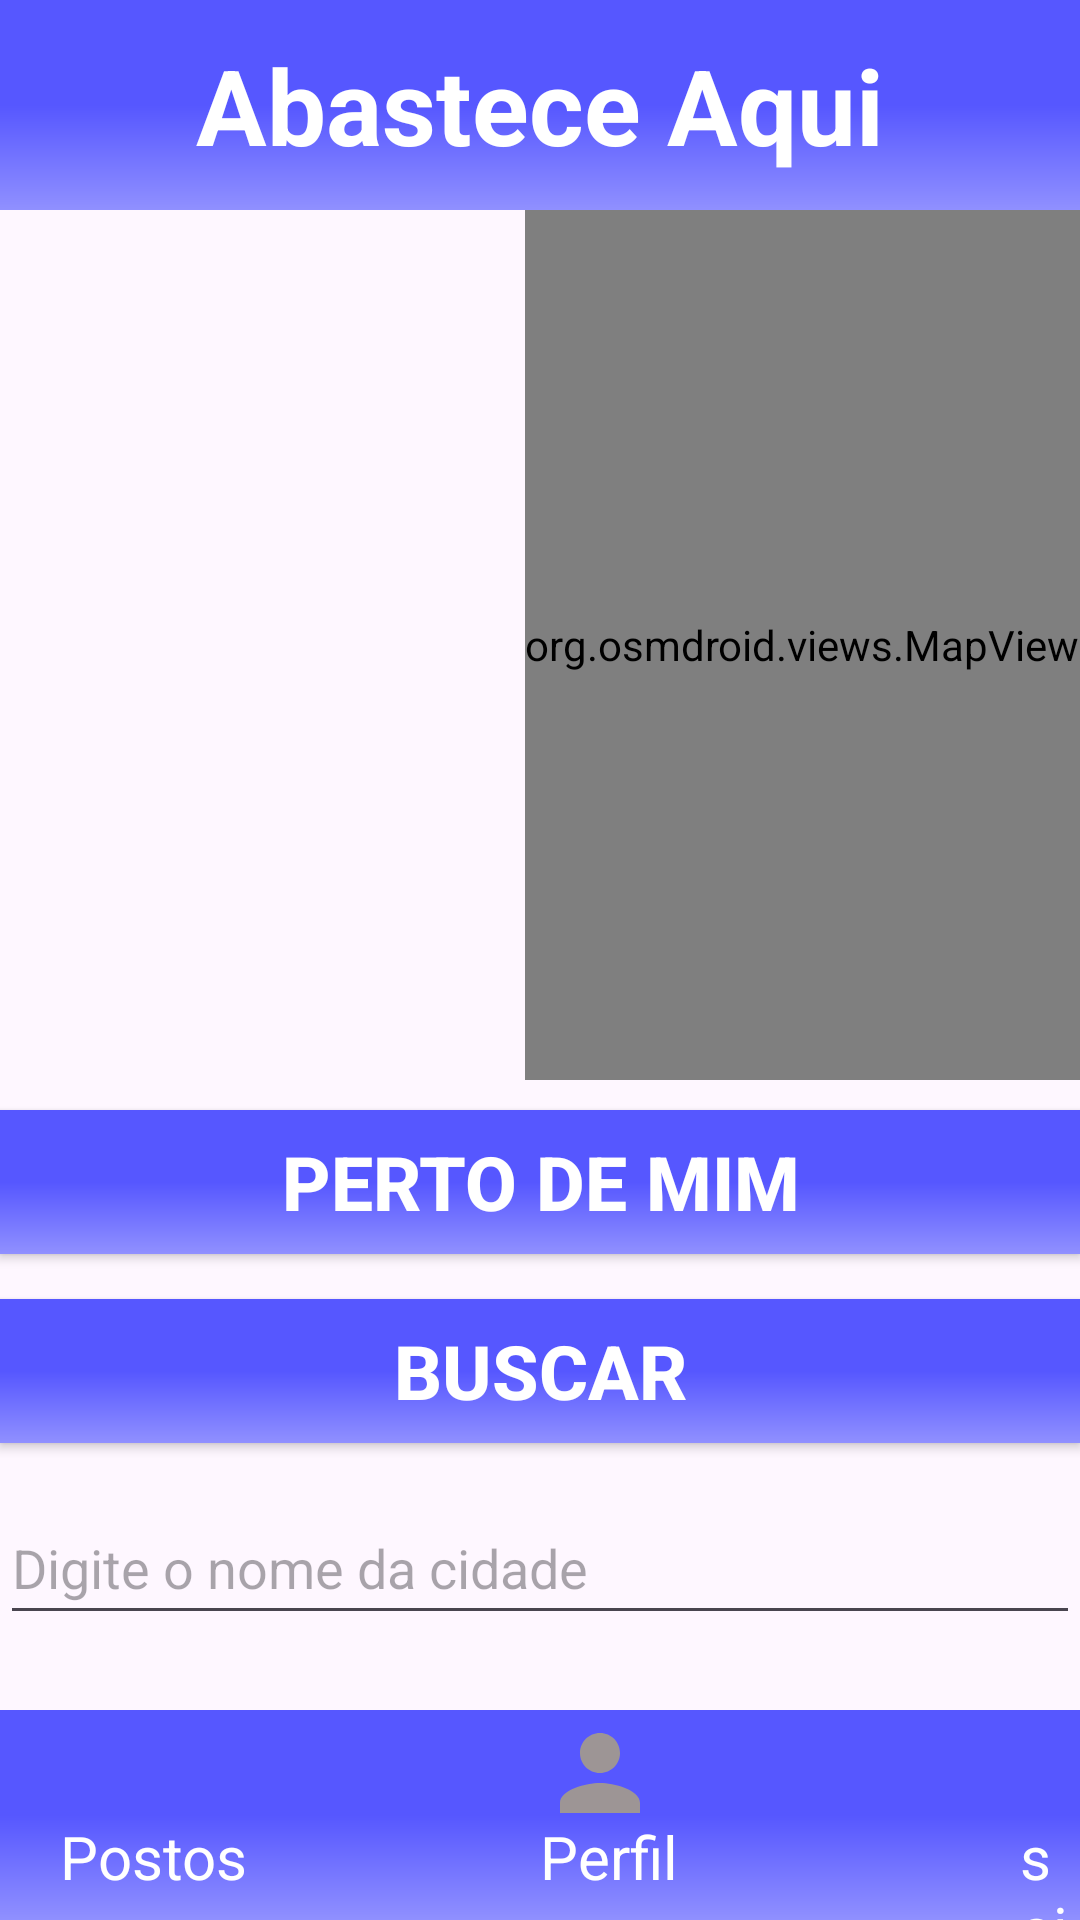

Named icons in this screenshot (1080×1920) and their bounding boxes, bbox=(x1, y1, x2, y2):
person: bbox=(560, 1733, 640, 1813)
